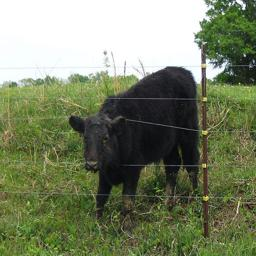cow: (128, 106, 256, 256)
